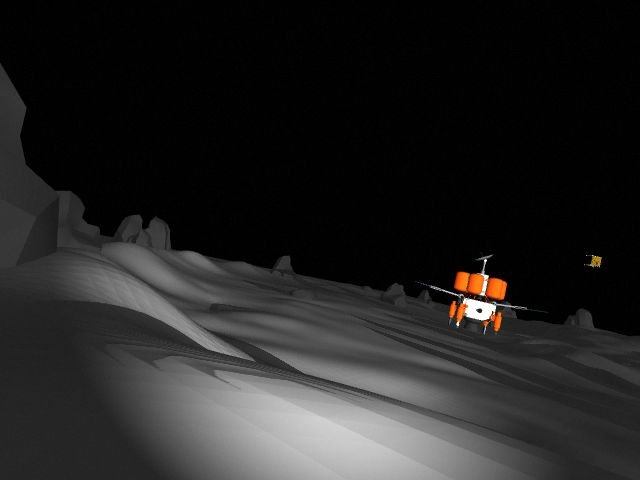homebase: (417, 250, 541, 339)
